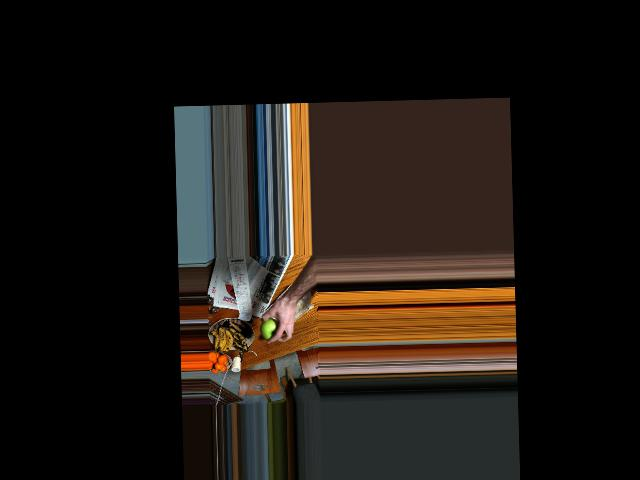apple: (260, 313, 283, 343)
